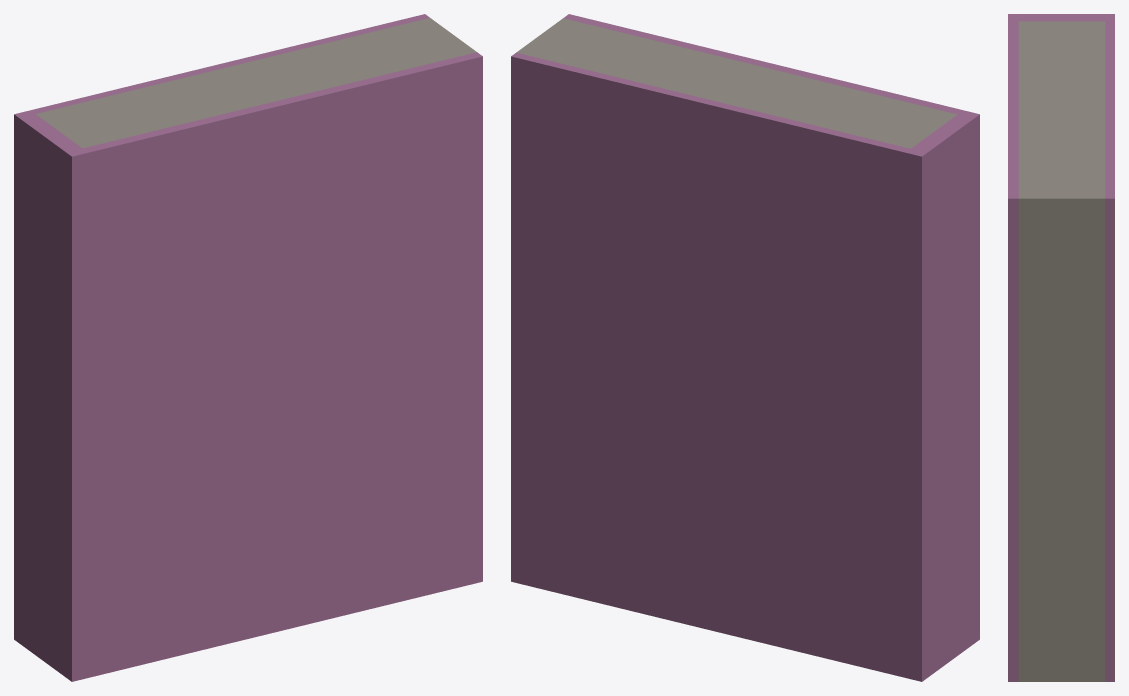
Rendered from Books_5.fbx.
3 renders of one model, left to right at view 1: azimuth 30°, elevation 25°; view 2: azimuth 150°, elevation 25°; view 3: azimuth 270°, elevation 25°, orthographic. The views are drawn at different scales.
Parts seen in each view (by area): view 1: pCube768; view 2: pCube768; view 3: pCube768.
Part boxes in pixels (x1,y1,x2,y2): pCube768: (14, 14, 482, 681); pCube768: (511, 14, 979, 681); pCube768: (1008, 14, 1114, 681).
Size of the model in its own units: 0.4094 by 0.5 by 0.1.
Materials: 1 (1 with a texture image).
